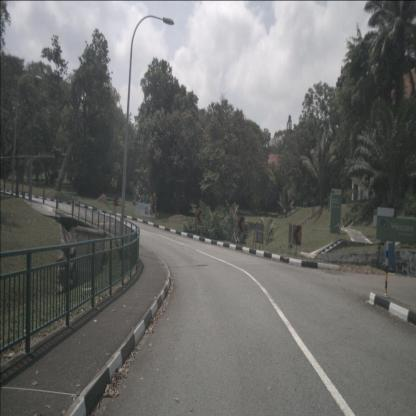vehicle-bicycle: (230, 224, 243, 248)
